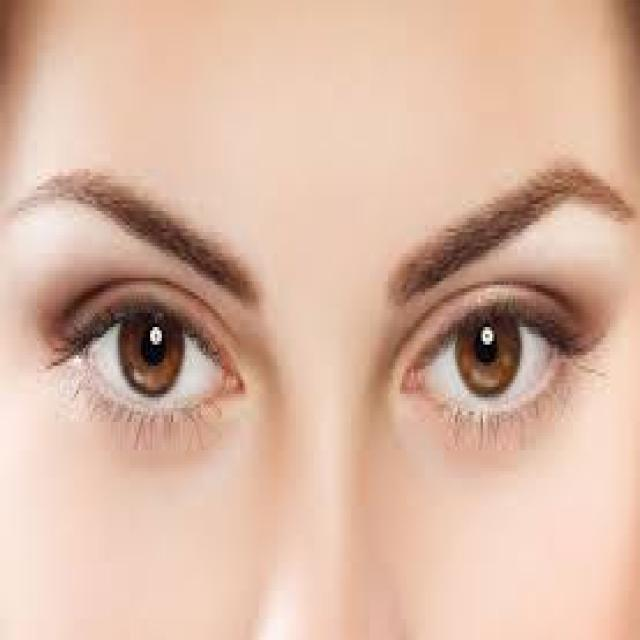Eyes-iris: (116, 304, 187, 402), (450, 308, 524, 398)
